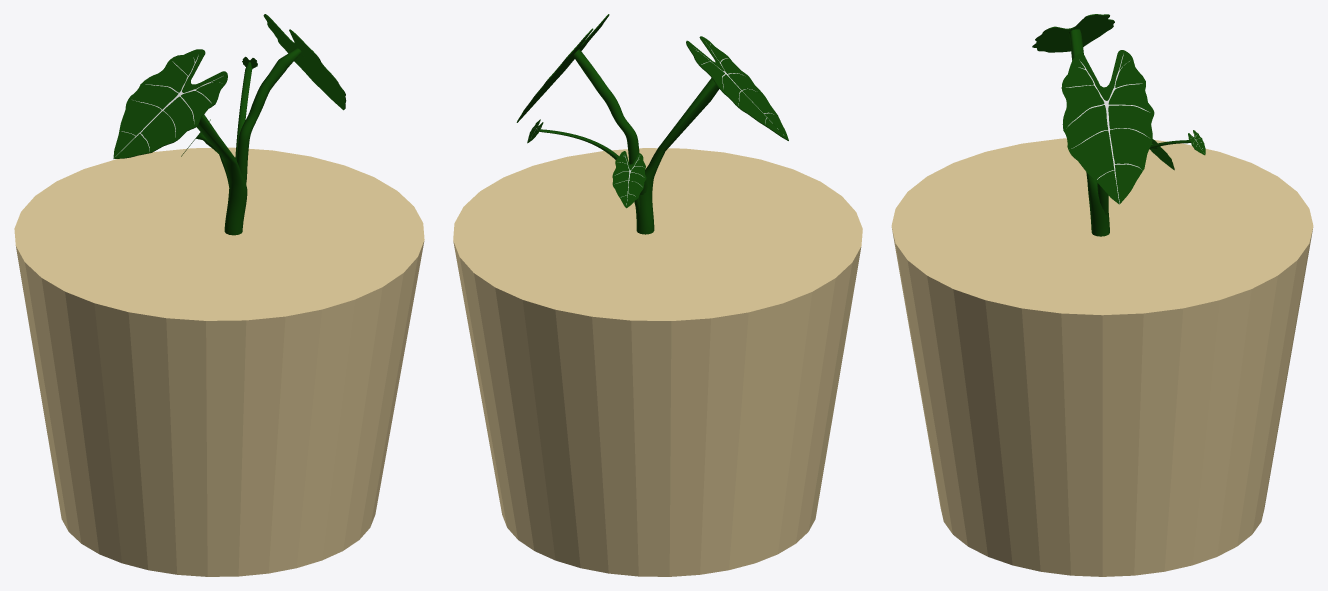
The model's file is Alokasia6.glb.
3 renders of one model, left to right at view 1: azimuth 30°, elevation 25°; view 2: azimuth 150°, elevation 25°; view 3: azimuth 270°, elevation 25°, orthographic. The views are drawn at different scales.
Parts seen in each view (by area): view 1: 흙임, 잎.003; view 2: 흙임, 잎.003; view 3: 흙임, 잎.003.
Part boxes in pixels (box(x1,y1,x2,y2)): 흙임: box(14, 147, 424, 576); 잎.003: box(113, 14, 346, 235); 흙임: box(453, 148, 862, 576); 잎.003: box(516, 14, 788, 234); 흙임: box(891, 138, 1313, 576); 잎.003: box(1032, 14, 1205, 236).
Size of the model in its own units: 0.3201 by 0.4081 by 0.3201.
